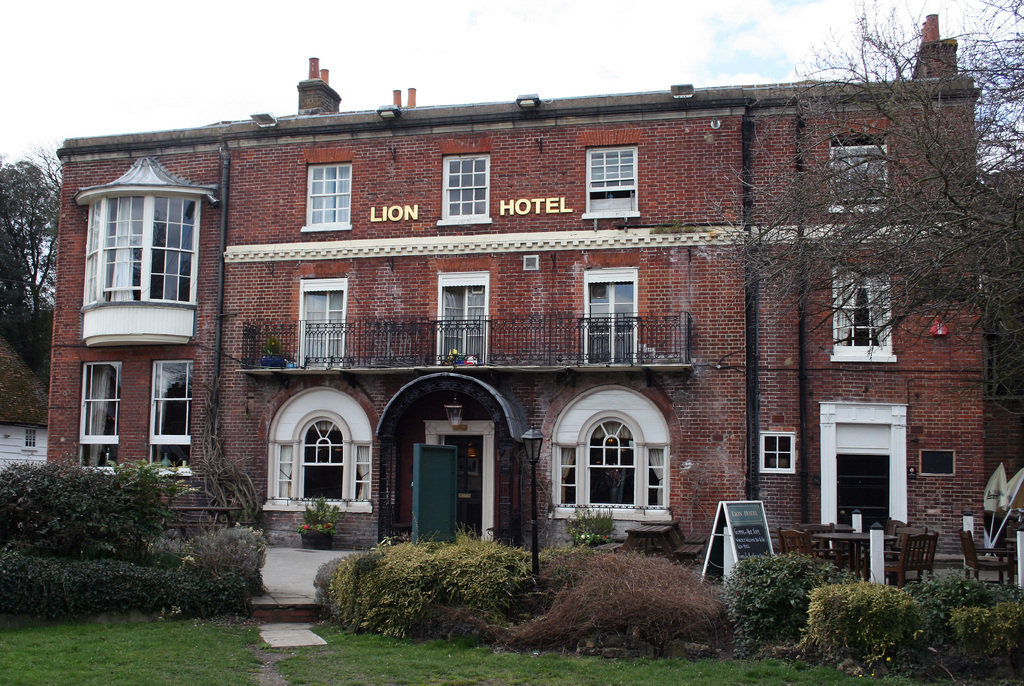Tree: (685, 0, 1024, 415), (0, 136, 66, 386)
